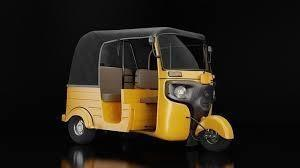keke: (61, 22, 231, 160), (58, 26, 218, 167)
